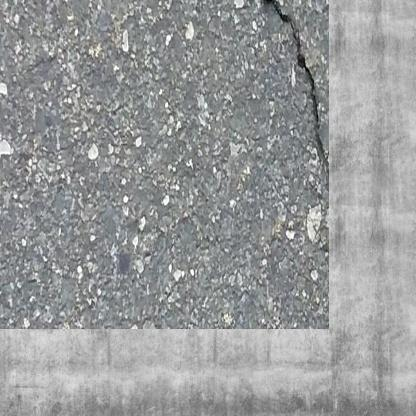Cracks: (223, 0, 304, 181)
